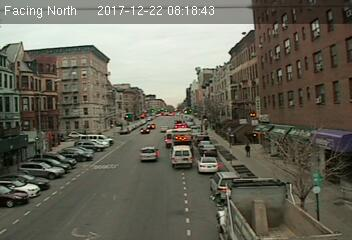car: (198, 155, 218, 173), (139, 146, 158, 161), (199, 143, 218, 154), (139, 125, 151, 134)
truck: (171, 146, 194, 168)
